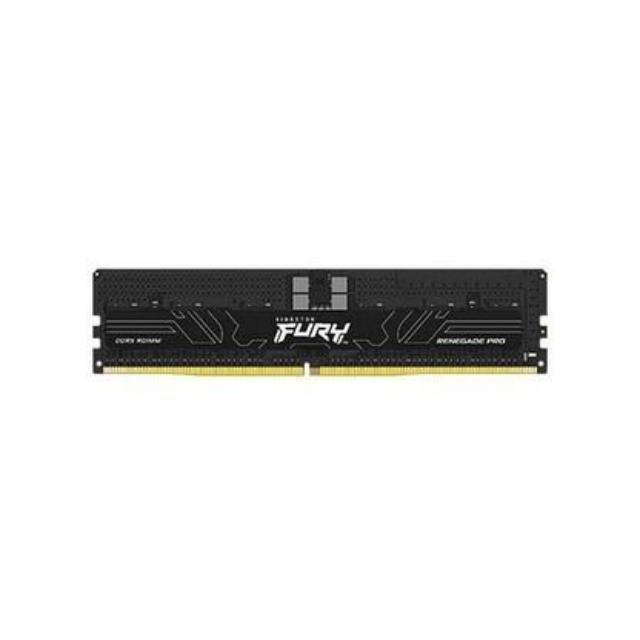RAM: (89, 260, 557, 388)
